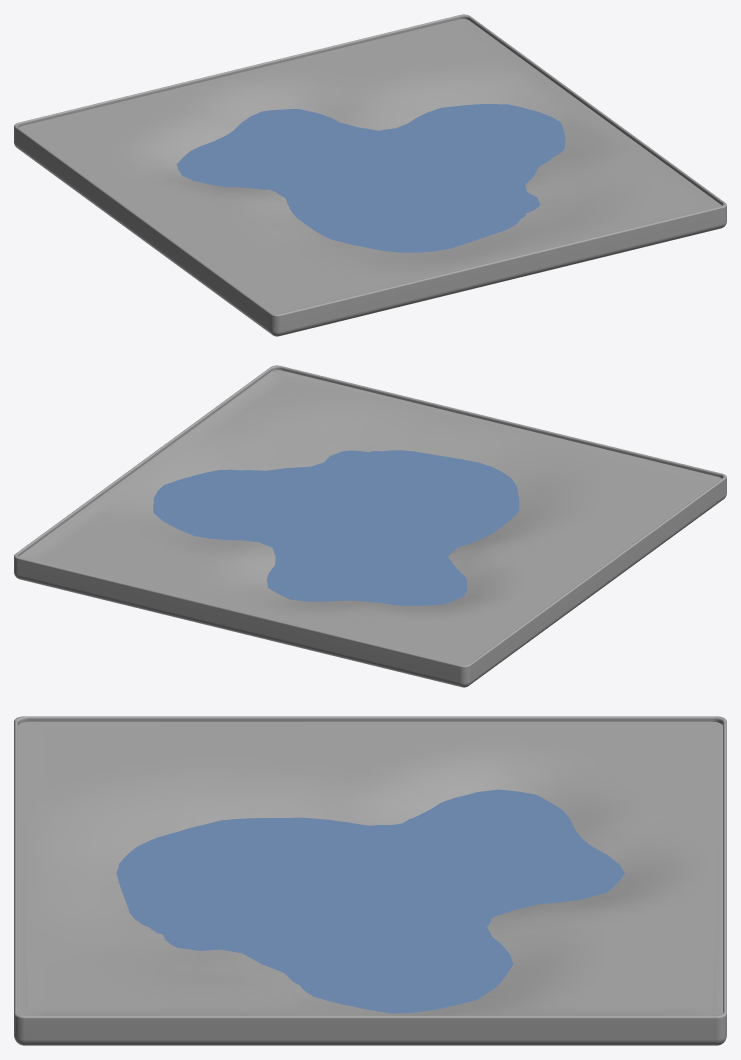
File: plateau01.fbx
The picture shows the model from 3 angles, top to bottom: view 1: azimuth 30°, elevation 25°; view 2: azimuth 150°, elevation 25°; view 3: azimuth 270°, elevation 25°; orthographic projection. The views are drawn at different scales.
Visible parts, largest first — view 1: plateau_lac1, eau; view 2: plateau_lac1, eau; view 3: plateau_lac1, eau.
Part boxes in pixels (x1,y1,x2,y2): plateau_lac1: (14,14,726,336); eau: (176,104,565,252); plateau_lac1: (14,365,726,687); eau: (153,450,519,606); plateau_lac1: (14,716,726,1045); eau: (116,789,624,1013).
Bounding box in the file's own units: 100 × 5 × 100.
